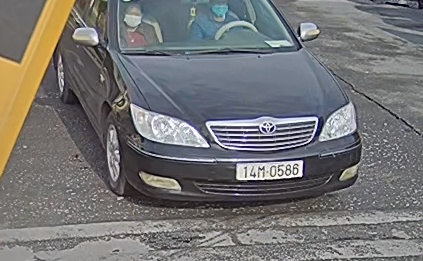vehicle plate: (233, 159, 305, 180)
